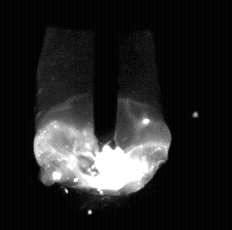arame: (94, 0, 118, 151)
poca: (33, 0, 171, 230)
